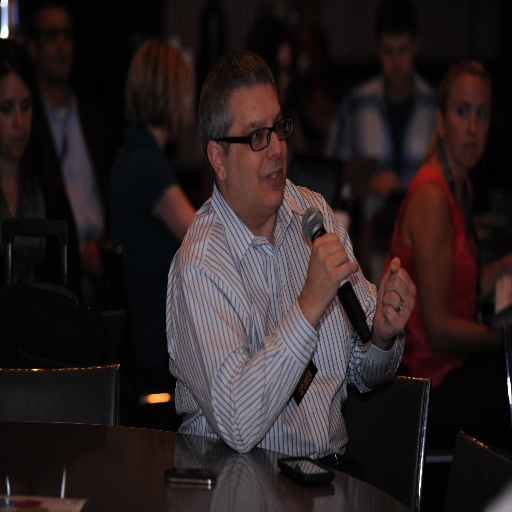hand: (304, 223, 375, 328), (374, 258, 418, 341), (371, 172, 398, 197)
